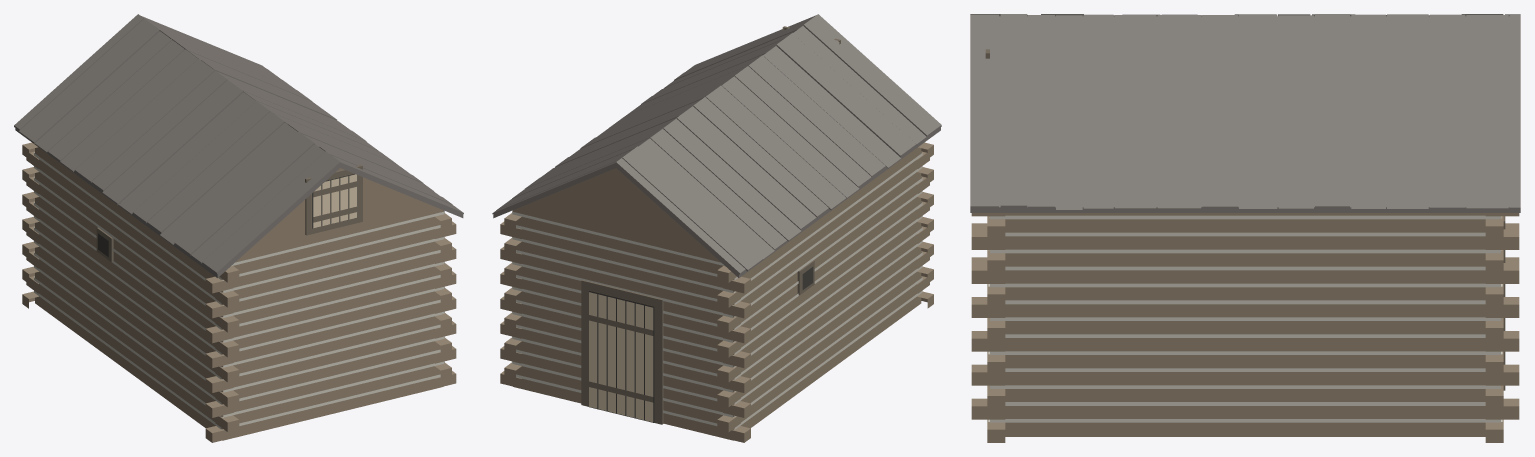
File: recon_1835_blk_south_water_franklin_a1_06__inferred_1835.glb
3 renders of one model, left to right at view 1: azimuth 30°, elevation 25°; view 2: azimuth 150°, elevation 25°; view 3: azimuth 270°, elevation 25°, orthographic. The views are drawn at different scales.
Visible parts, largest first — view 1: recon_1835_blk_south_water_franklin_a1_06__inferred_1835; view 2: recon_1835_blk_south_water_franklin_a1_06__inferred_1835; view 3: recon_1835_blk_south_water_franklin_a1_06__inferred_1835.
Part boxes in pixels (left/top/right/bottom): recon_1835_blk_south_water_franklin_a1_06__inferred_1835: left=14, top=14, right=463, bottom=442; recon_1835_blk_south_water_franklin_a1_06__inferred_1835: left=492, top=14, right=941, bottom=442; recon_1835_blk_south_water_franklin_a1_06__inferred_1835: left=970, top=14, right=1520, bottom=442.
Bounding box in the file's own units: 5.18 × 5.08 × 7.23.
